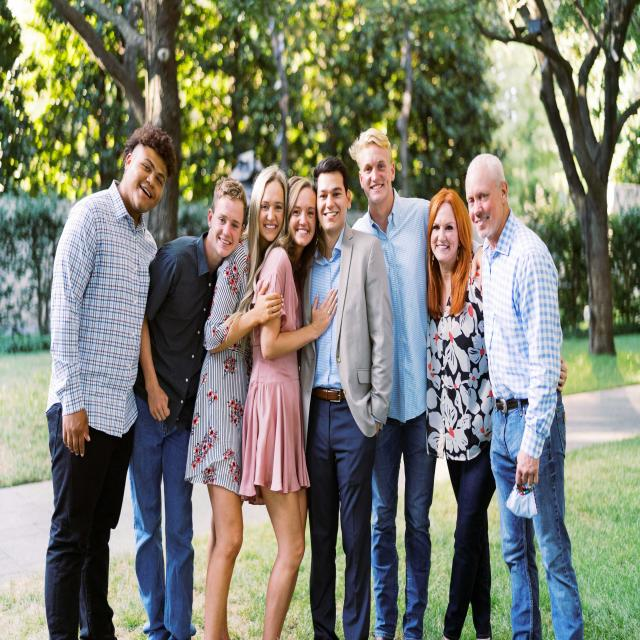adult: (43, 121, 178, 640), (465, 152, 584, 639), (128, 177, 246, 640), (185, 165, 287, 640), (301, 156, 391, 640), (244, 173, 337, 640), (352, 124, 434, 640), (426, 187, 494, 640)
